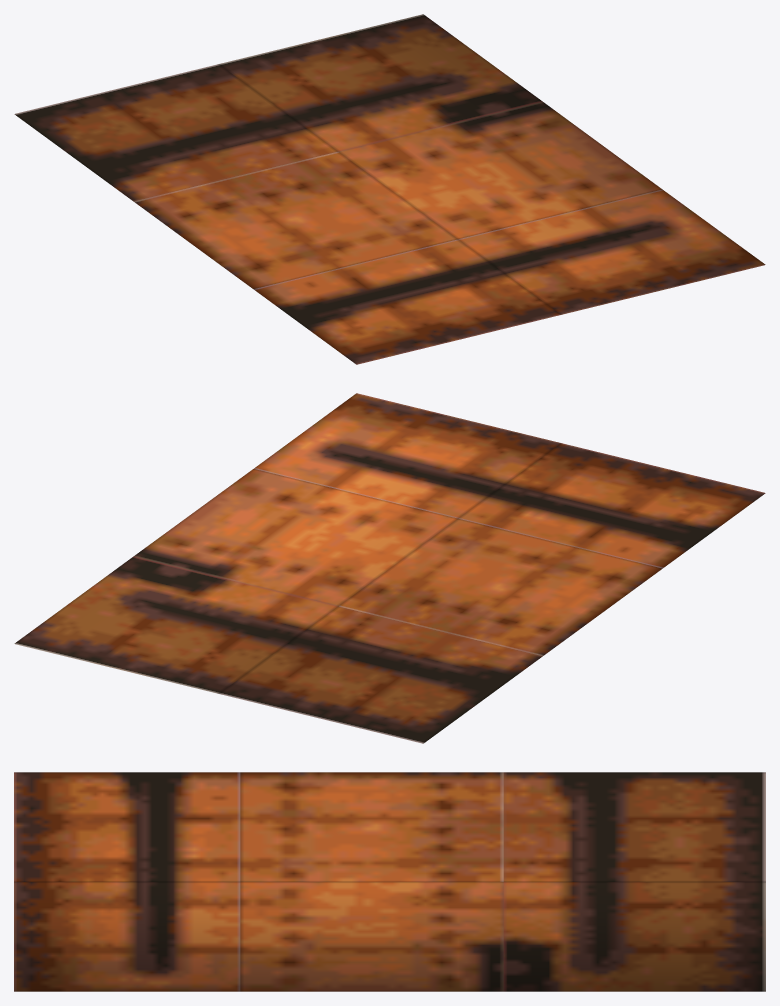
3 renders of one model, top to bottom at view 1: azimuth 30°, elevation 25°; view 2: azimuth 150°, elevation 25°; view 3: azimuth 270°, elevation 25°, orthographic. The views are drawn at different scales.
Visible parts, largest first — view 1: T1L6M003_1; view 2: T1L6M003_1; view 3: T1L6M003_1.
Part boxes in pixels (x1,y1,x2,y2): T1L6M003_1: [14, 14, 765, 364]; T1L6M003_1: [14, 393, 765, 743]; T1L6M003_1: [14, 772, 765, 991].
Bounding box in the file's own units: 1.94 × 0 × 2.81.
1 material, 1 textured.
